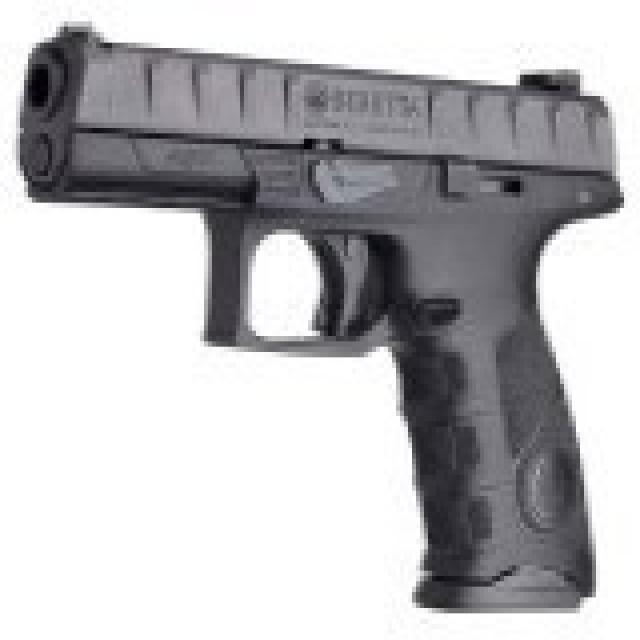Gun: (20, 13, 623, 602)
